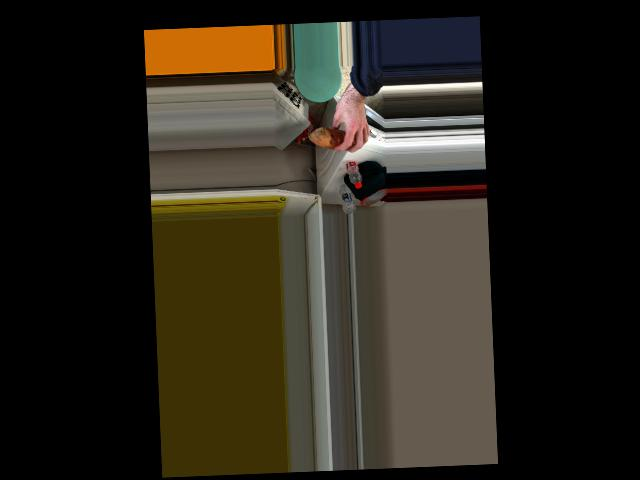sweet_potato: (317, 130, 351, 147)
